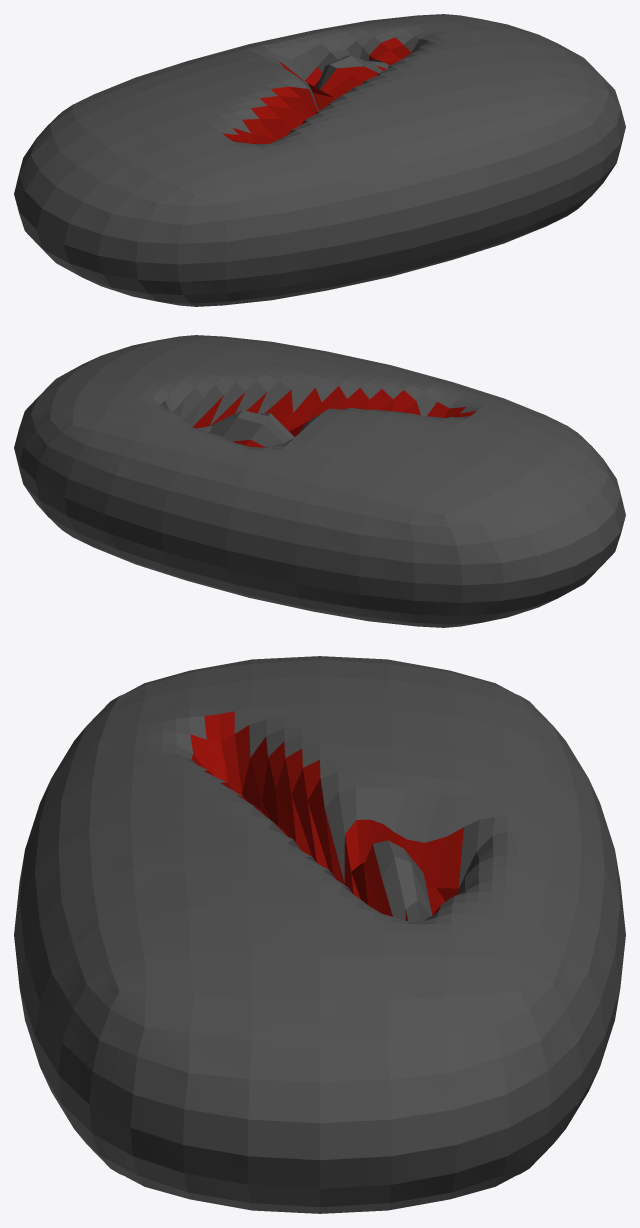
The model's file is Sigil_R.fbx.
3 renders of one model, top to bottom at view 1: azimuth 30°, elevation 25°; view 2: azimuth 150°, elevation 25°; view 3: azimuth 270°, elevation 25°, orthographic. The views are drawn at different scales.
Visible parts, largest first — view 1: Sigil_R; view 2: Sigil_R; view 3: Sigil_R.
Part boxes in pixels (left/top/right/bottom): Sigil_R: left=14, top=14, right=625, bottom=306; Sigil_R: left=14, top=335, right=625, bottom=627; Sigil_R: left=14, top=656, right=625, bottom=1213.
Size of the model in its own units: 59.86 by 17.11 by 34.36.
